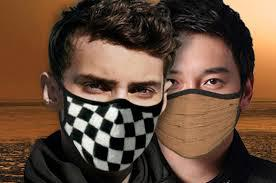OK: (58, 64, 163, 169), (151, 61, 242, 156)
